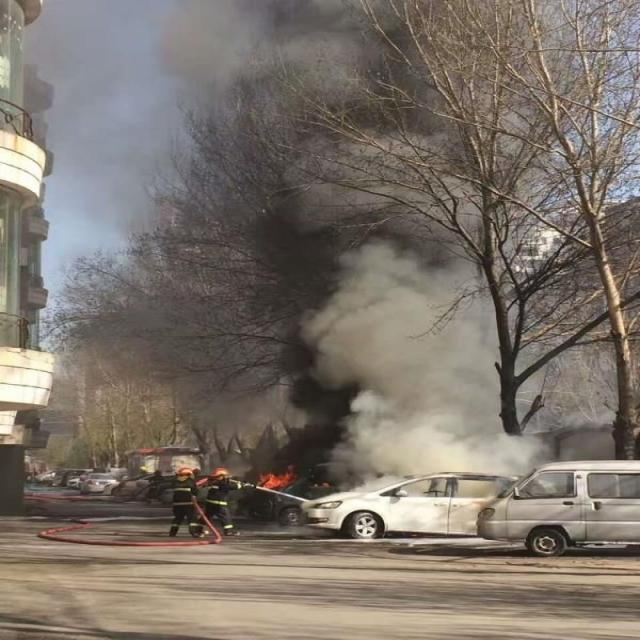Fire: (176, 462, 294, 490)
Smoke: (152, 0, 614, 458)
